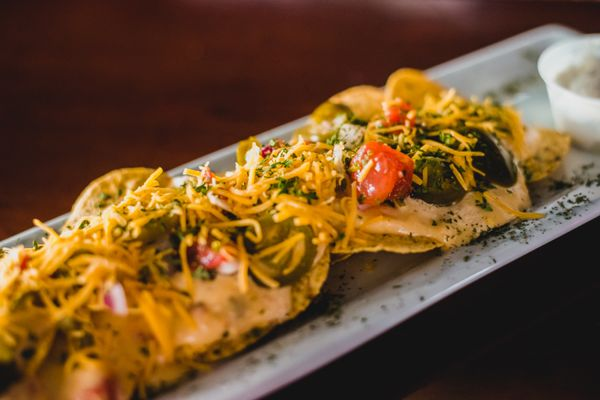sushi: (537, 36, 600, 155)
